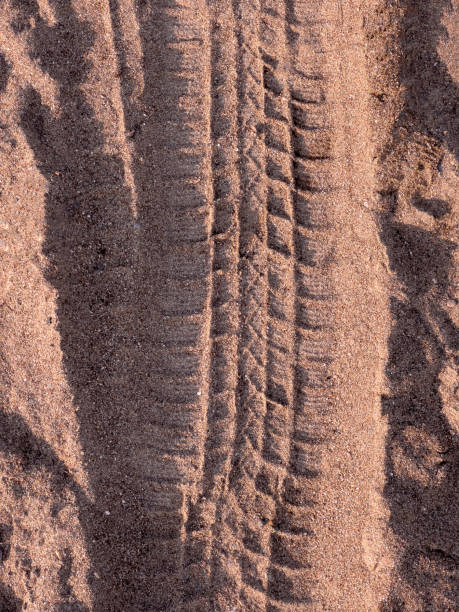vehicle_track: (10, 0, 382, 611), (184, 0, 331, 609)
